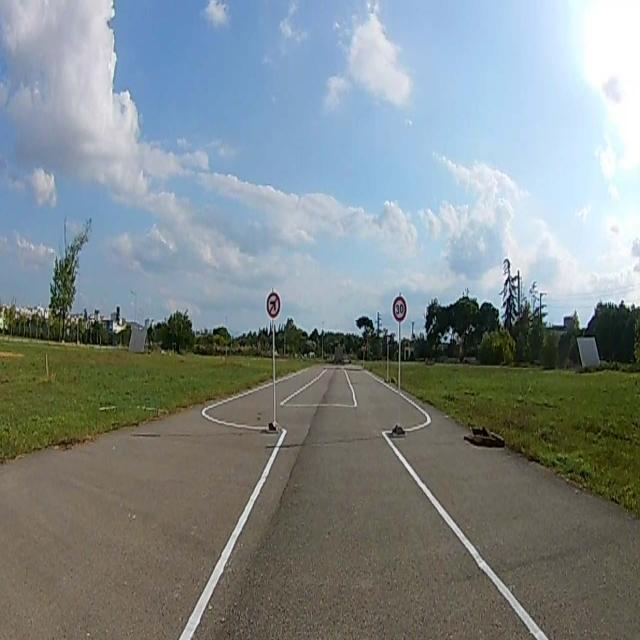30: (392, 296, 406, 322)
soladonulmez: (266, 292, 280, 318)
